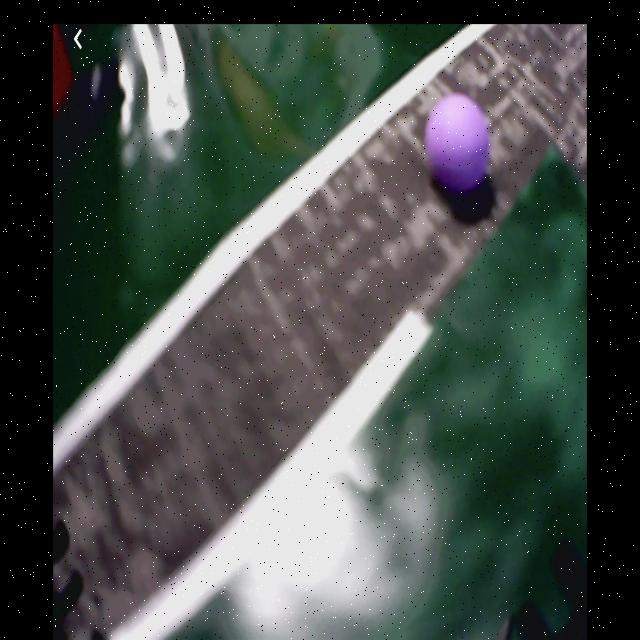ball: (423, 96, 490, 196)
